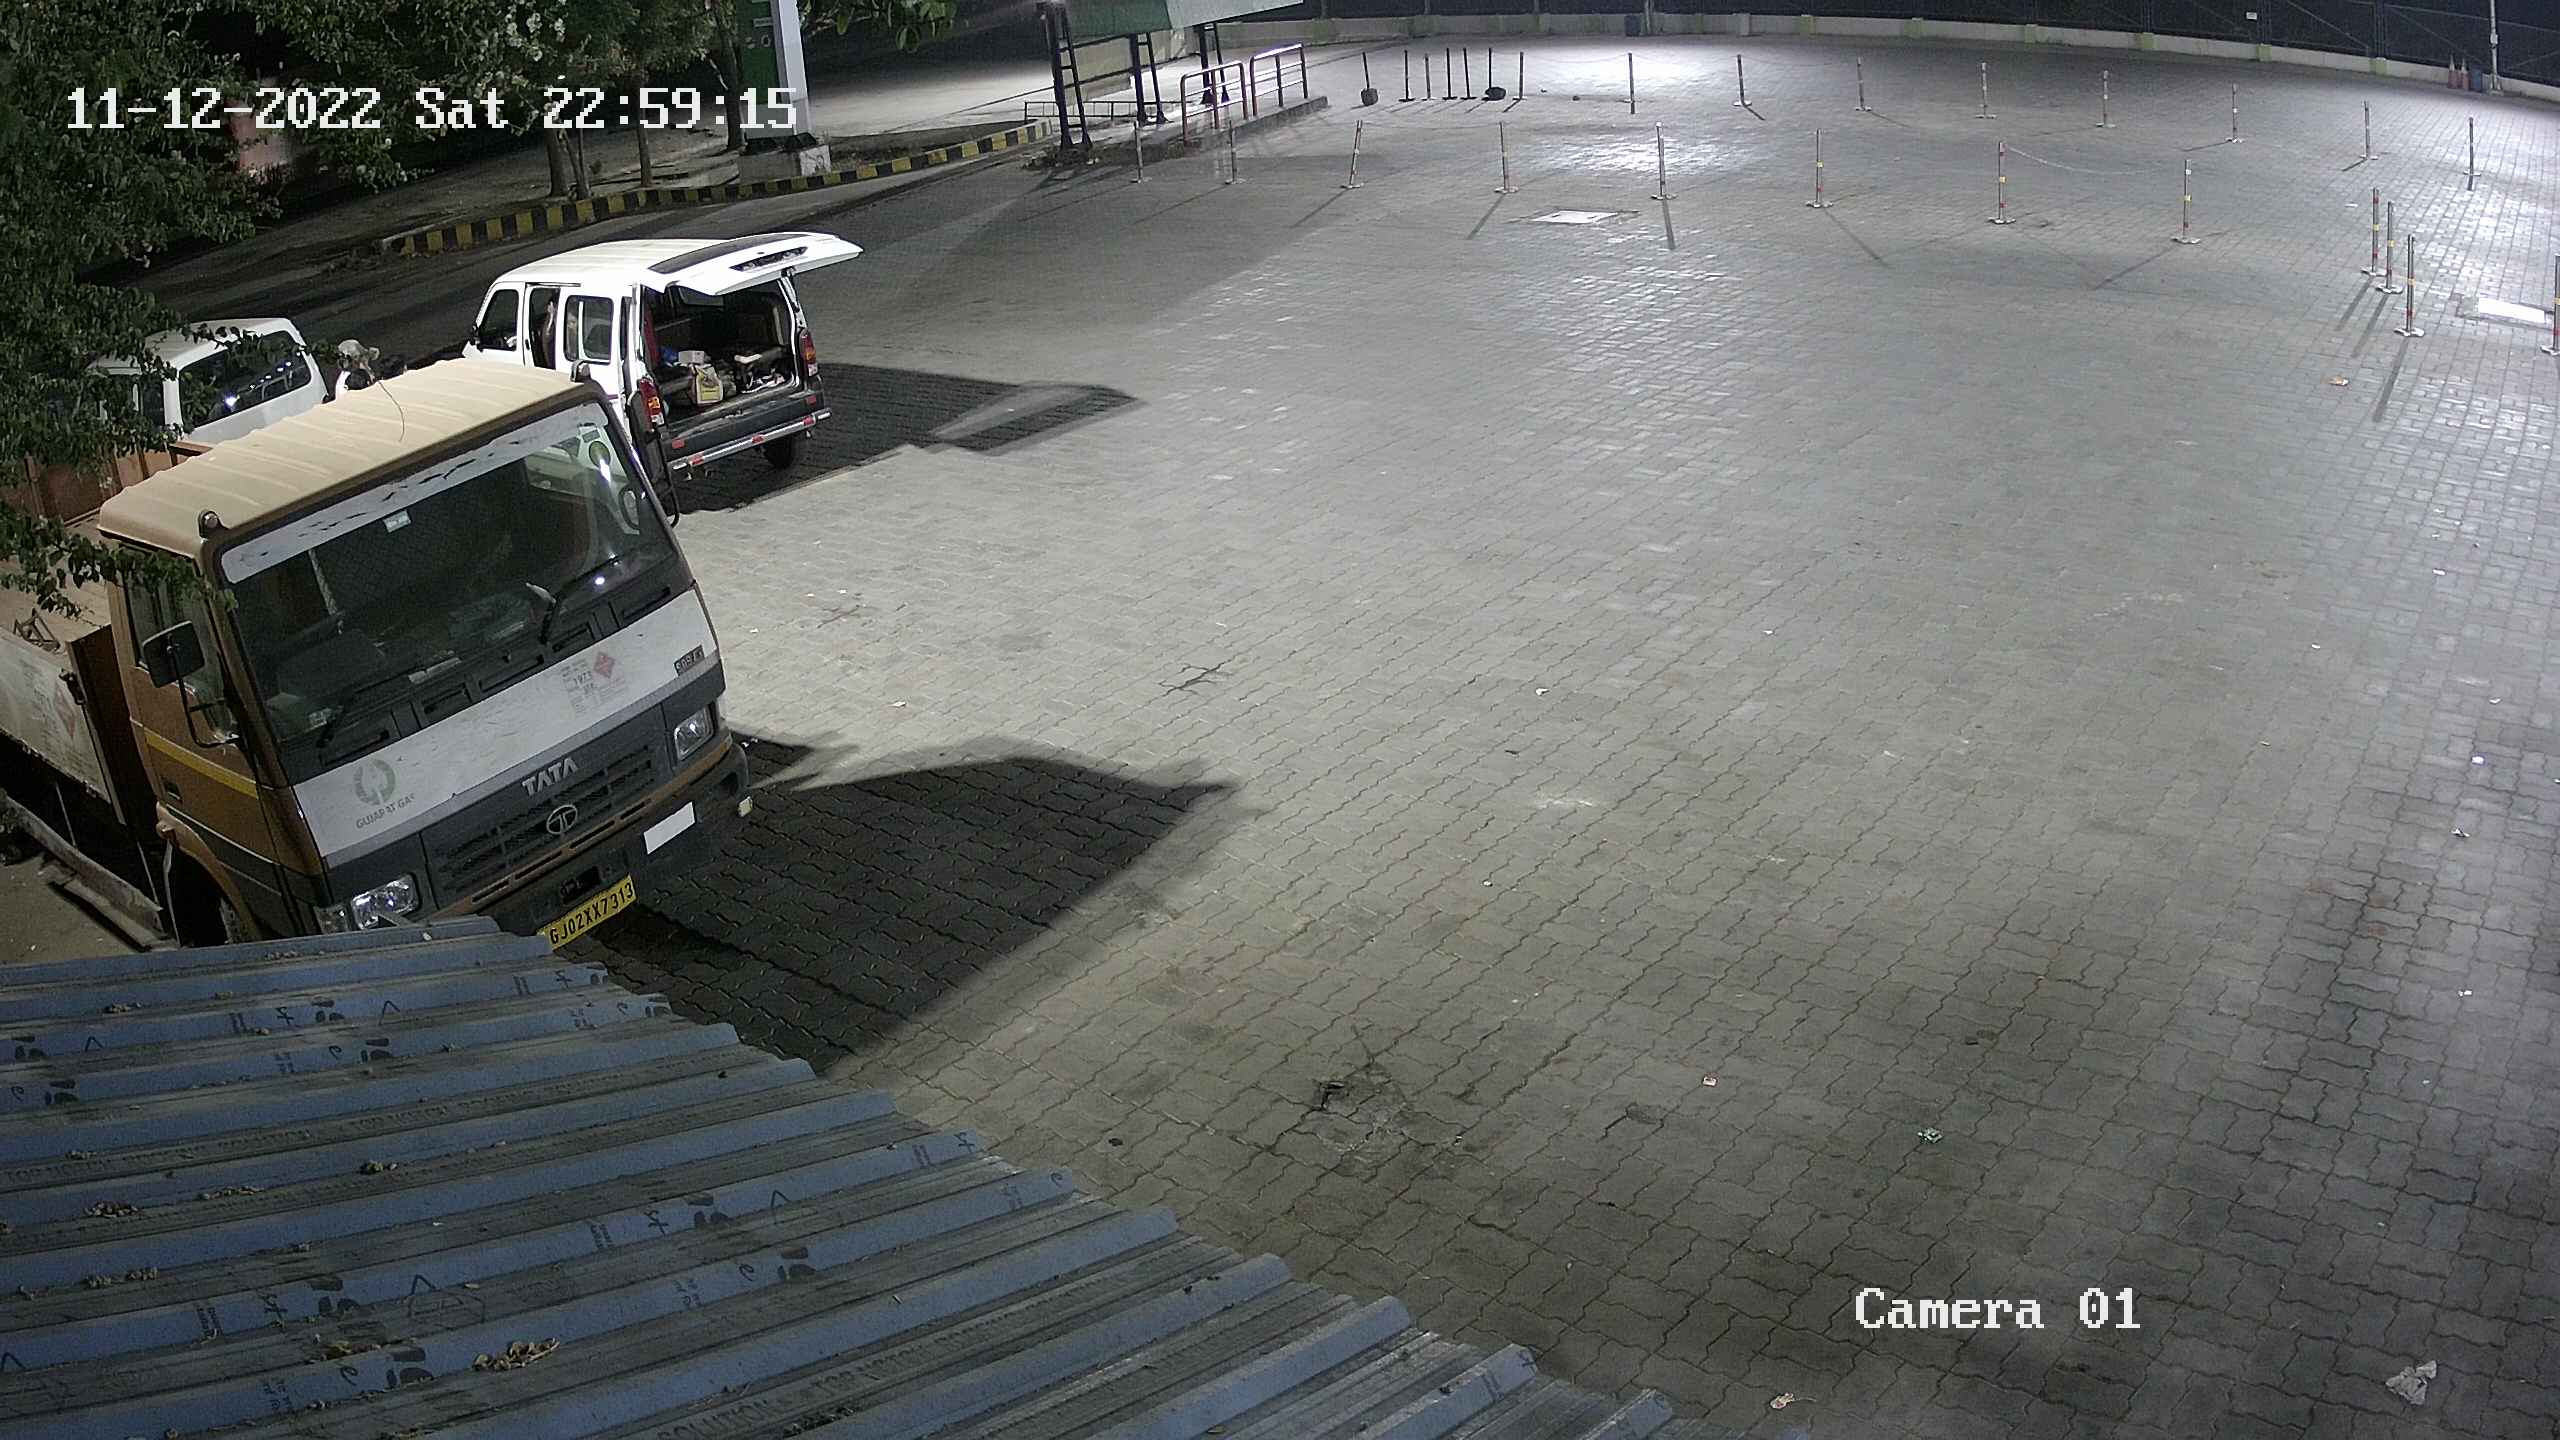Car: (431, 220, 860, 505), (42, 299, 376, 459)
HMV: (2, 331, 774, 969)
